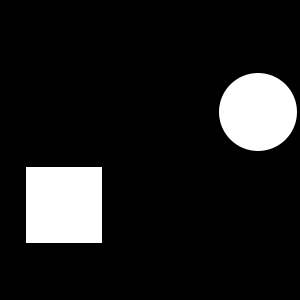circle: (26, 167, 102, 243)
rectangle: (219, 73, 297, 151)
